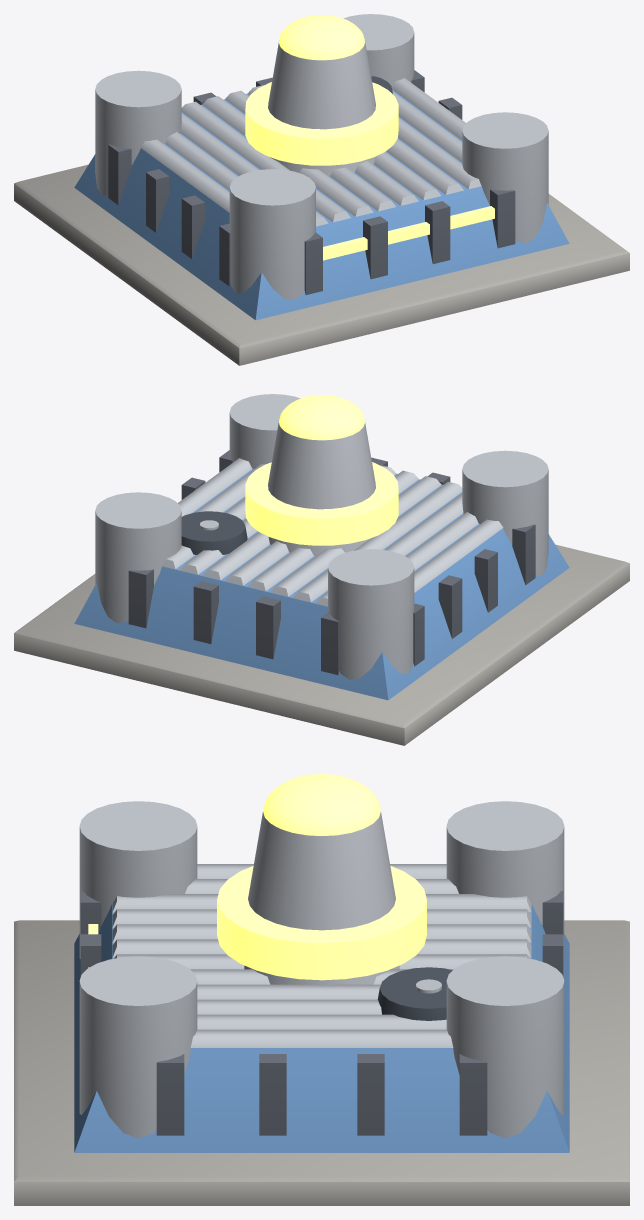
Rendered from gaorep.glb.
The picture shows the model from 3 angles, top to bottom: view 1: azimuth 30°, elevation 25°; view 2: azimuth 150°, elevation 25°; view 3: azimuth 270°, elevation 25°; orthographic projection. The views are drawn at different scales.
Parts seen in each view (by area): view 1: Hull; view 2: Hull; view 3: Hull.
Boxes of the visible parts, left/top/right/bottom form: Hull: left=14, top=14, right=629, bottom=365; Hull: left=14, top=394, right=629, bottom=745; Hull: left=14, top=774, right=629, bottom=1205.
Size of the model in its own units: 5.08 by 2.66 by 5.08.
